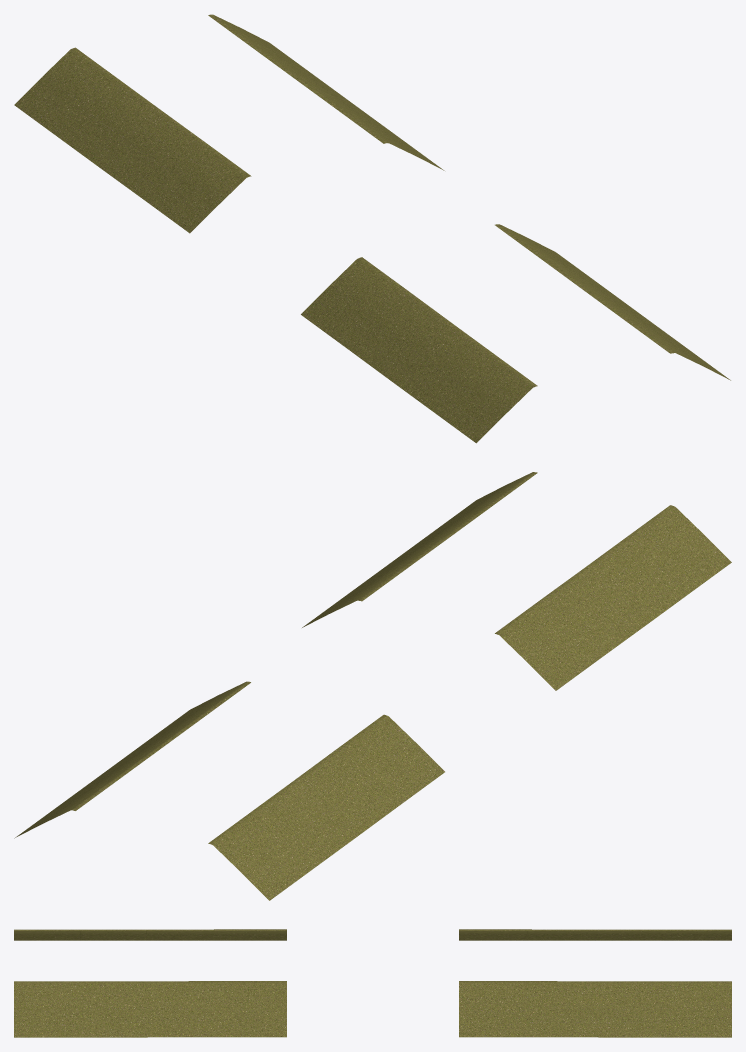
Rendered from SM_0_Landscape_1_512X512.gltf.
3 renders of one model, top to bottom at view 1: azimuth 30°, elevation 25°; view 2: azimuth 150°, elevation 25°; view 3: azimuth 270°, elevation 25°, orthographic. The views are drawn at different scales.
Parts seen in each view (by area): view 1: SM_0_Landscape_1; view 2: SM_0_Landscape_1; view 3: SM_0_Landscape_1.
Part boxes in pixels (x1=…): SM_0_Landscape_1: x1=14, y1=14, x2=730, y2=443; SM_0_Landscape_1: x1=14, y1=472, x2=731, y2=900; SM_0_Landscape_1: x1=14, y1=929, x2=731, y2=1037.
Bounding box in the file's own units: 46.09 × 7.35 × 144.
1 material, 1 textured.
